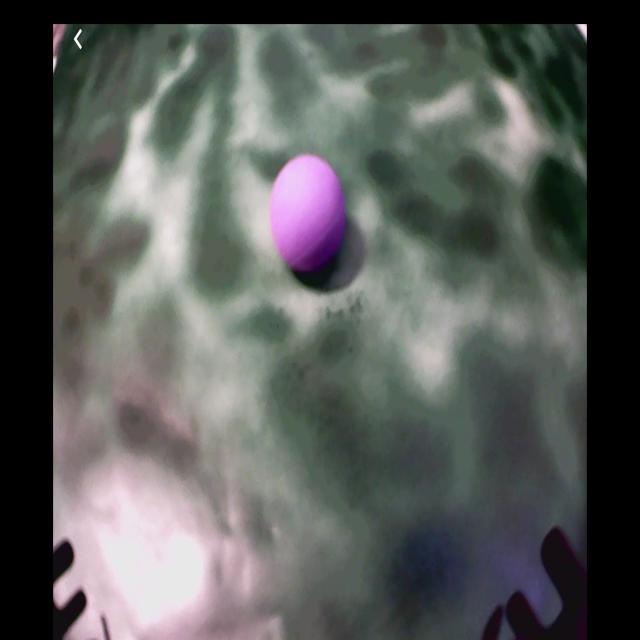ball: (270, 152, 346, 279)
